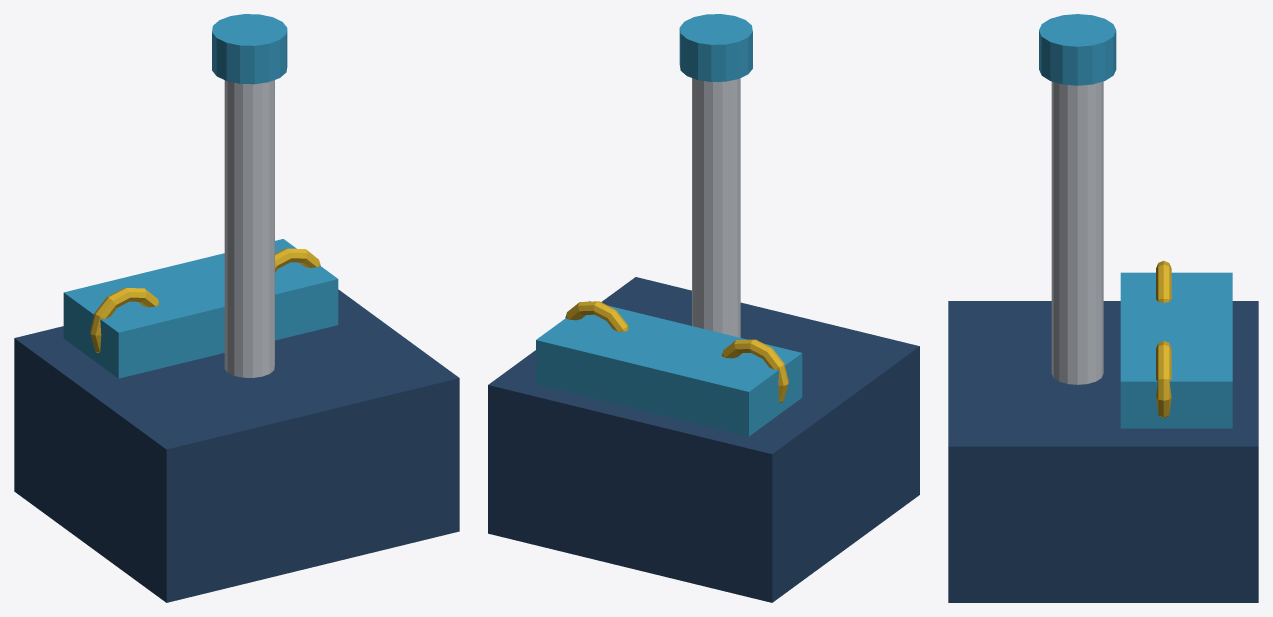
File: submarine_control.obj
The picture shows the model from 3 angles, left to right: view 1: azimuth 30°, elevation 25°; view 2: azimuth 150°, elevation 25°; view 3: azimuth 270°, elevation 25°; orthographic projection. The views are drawn at different scales.
Visible parts, largest first — view 1: submarine_control; view 2: submarine_control; view 3: submarine_control.
Boxes of the visible parts, left/top/right/bottom form: submarine_control: left=14, top=14, right=459, bottom=602; submarine_control: left=488, top=14, right=919, bottom=602; submarine_control: left=948, top=14, right=1258, bottom=602.
Size of the model in its own units: 0.8 by 1.28 by 0.72.
